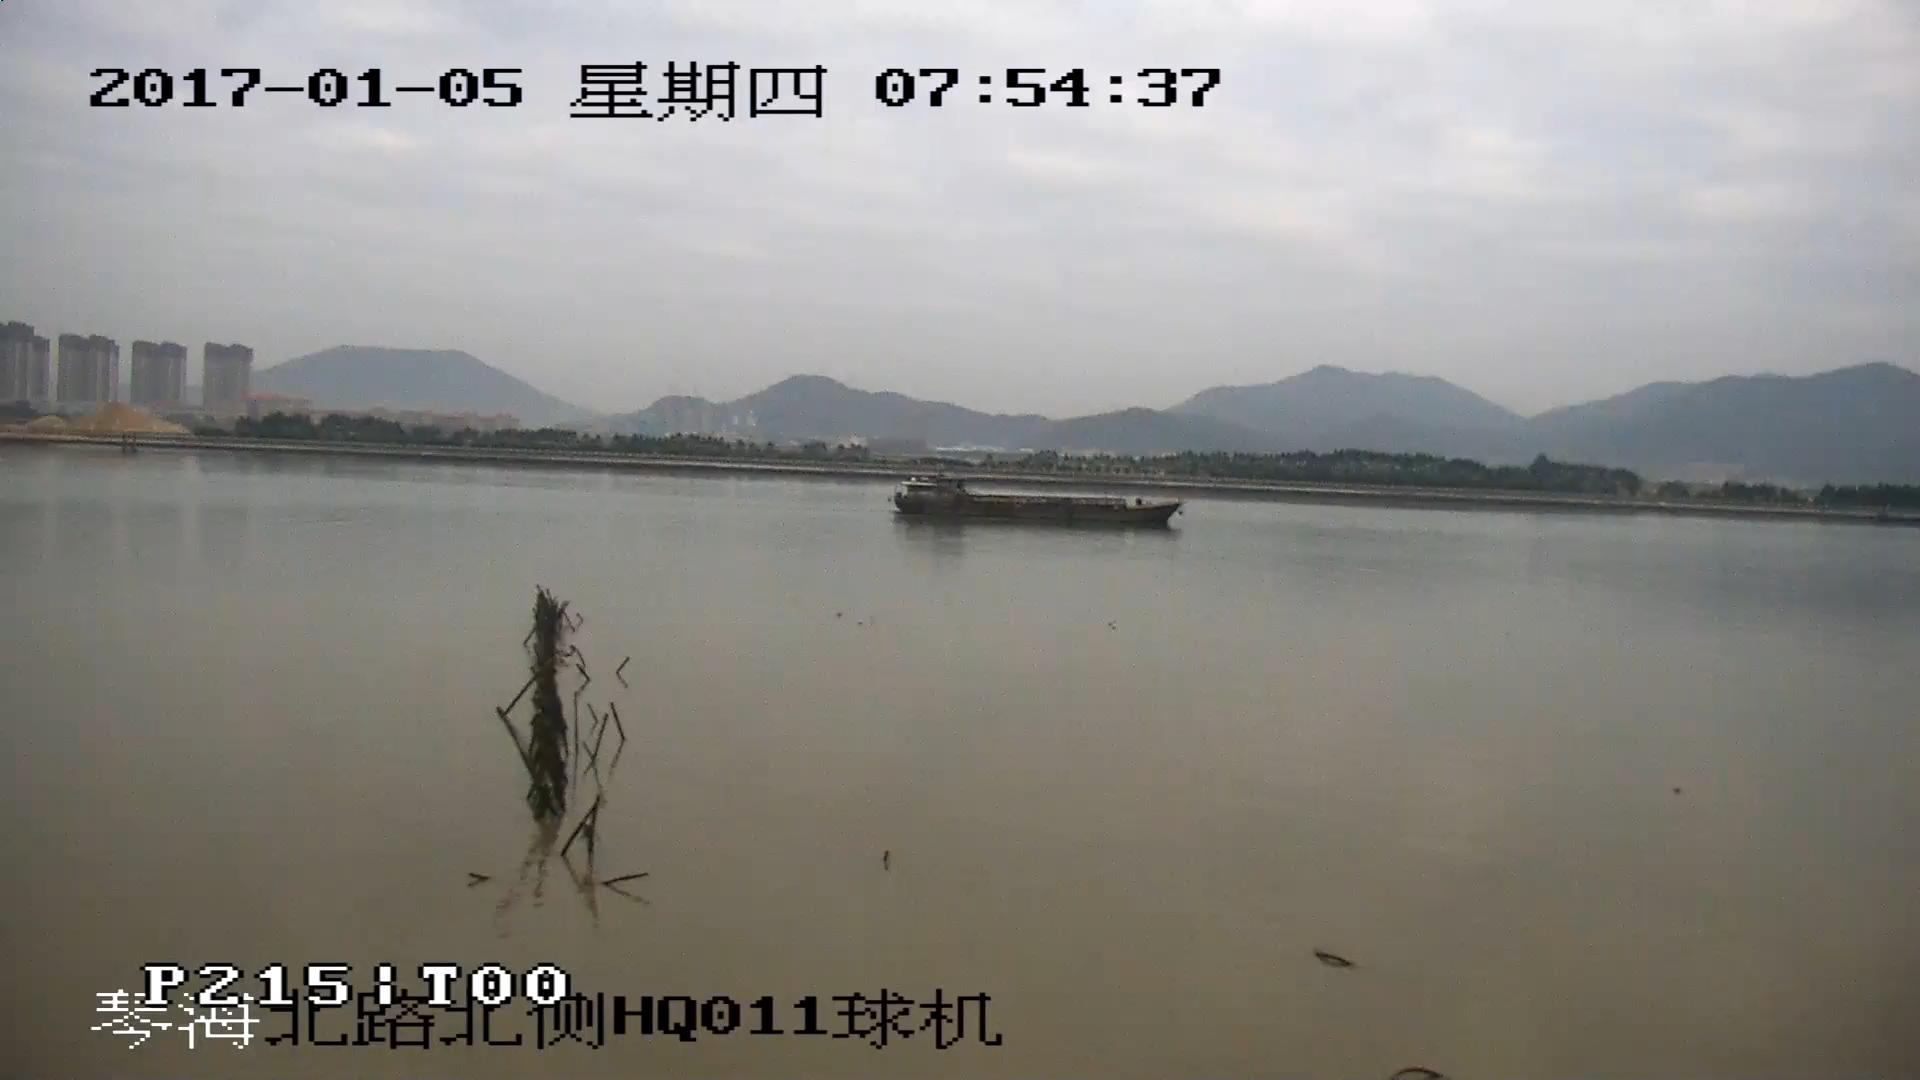bulk cargo carrier: (893, 476, 1184, 523)
